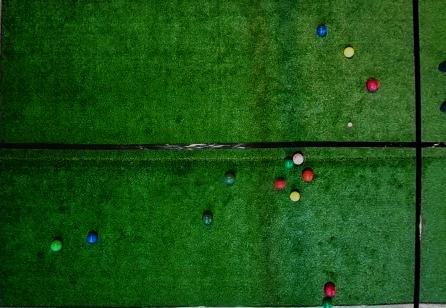blue: (86, 232, 98, 244), (317, 26, 327, 36)
green: (50, 240, 62, 252), (224, 174, 235, 185), (202, 214, 213, 225), (284, 158, 293, 168), (323, 298, 333, 307)
red: (366, 79, 379, 92), (302, 169, 314, 182), (292, 153, 304, 165), (274, 179, 286, 190), (324, 285, 335, 296)
vline: (411, 0, 445, 307), (0, 0, 6, 307)
white: (348, 123, 352, 127)
yellow: (343, 47, 354, 57), (290, 191, 300, 201)
